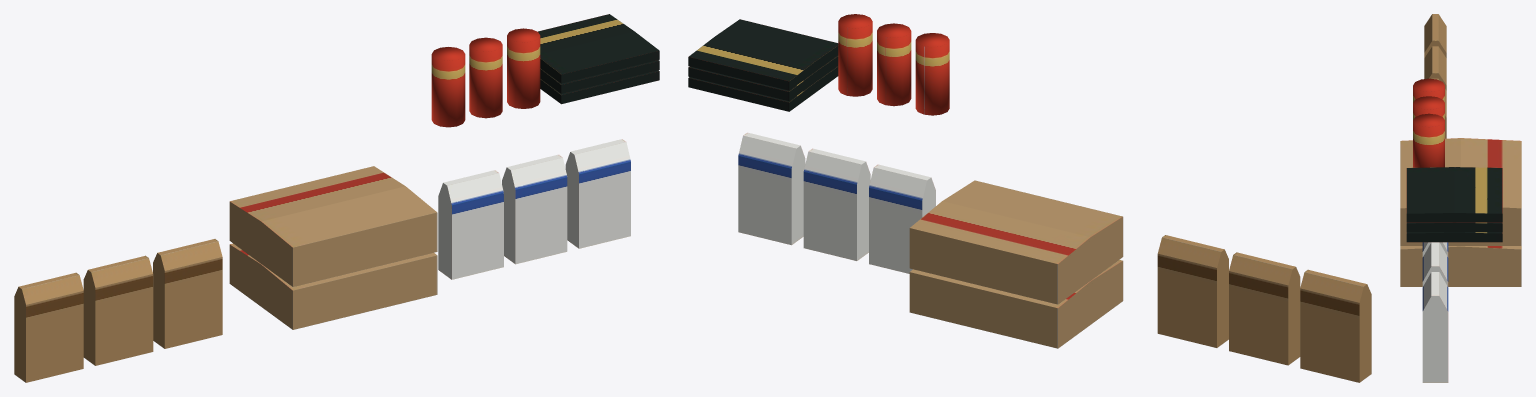
File: pantry.glb
The picture shows the model from 3 angles, left to right: view 1: azimuth 30°, elevation 25°; view 2: azimuth 150°, elevation 25°; view 3: azimuth 270°, elevation 25°; orthographic projection. The views are drawn at different scales.
Parts seen in each view (by area): view 1: PantryRice1, PantryRice0, PantryPeanut1, PantryPeanut0, PantryPeanut2, PantrySalt0, PantrySalt1, PantrySalt2, PantryNori2, PantryShichimi0, PantryShichimi1, PantryShichimi2 (+2 smaller); view 2: PantryRice1, PantryRice0, PantryPeanut0, PantryPeanut1, PantryPeanut2, PantrySalt2, PantrySalt1, PantryNori2, PantrySalt0, PantryShichimi1, PantryShichimi0, PantryShichimi2 (+2 smaller); view 3: PantryNori2, PantryRice1, PantryRice0, PantrySalt2, PantryShichimi2, PantryNori0, PantryNori1, PantrySalt1, PantryPeanut0, PantryPeanut1, PantryShichimi0, PantryShichimi1 (+1 smaller).
Part boxes in pixels (x1,y1,x2,y2): PantryRice1: (229,166,437,286); PantryRice0: (229,243,437,329); PantryPeanut1: (83,255,153,365); PantryPeanut0: (14,272,83,382); PantryPeanut2: (153,239,222,348); PantrySalt0: (438,170,503,279); PantrySalt1: (502,154,567,264); PantrySalt2: (565,139,630,248); PantryNori2: (538,14,659,83); PantryShichimi0: (431,47,465,127); PantryShichimi1: (469,37,502,118); PantryShichimi2: (507,28,540,108); PantryRice1: (909,180,1123,304); PantryRice0: (909,260,1123,348); PantryPeanut0: (1300,269,1371,382); PantryPeanut1: (1229,252,1300,365); PantryPeanut2: (1157,235,1228,347); PantrySalt2: (738,132,805,245); PantrySalt1: (803,148,870,260); PantryNori2: (688,19,838,90); PantrySalt0: (869,164,935,273); PantryShichimi1: (877,23,911,106); PantryShichimi0: (915,33,949,115); PantryShichimi2: (838,14,872,96); PantryNori2: (1406,167,1502,222); PantryRice1: (1400,138,1521,245); PantryRice0: (1400,246,1521,286); PantrySalt2: (1422,272,1448,382); PantryShichimi2: (1413,113,1444,167); PantryNori0: (1406,232,1502,242); PantryNori1: (1406,222,1502,232); PantrySalt1: (1422,242,1448,286); PantryPeanut0: (1424,14,1446,57); PantryPeanut1: (1424,46,1446,90); PantryShichimi0: (1413,78,1444,102); PantryShichimi1: (1413,96,1444,119).
Bounding box in the file's own units: 2.16 × 0.739 × 0.38.
1 material, 1 textured.
